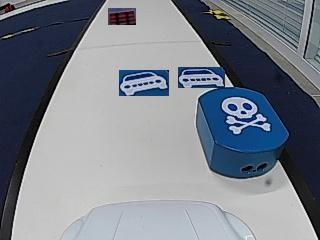danger: (225, 101, 268, 133)
